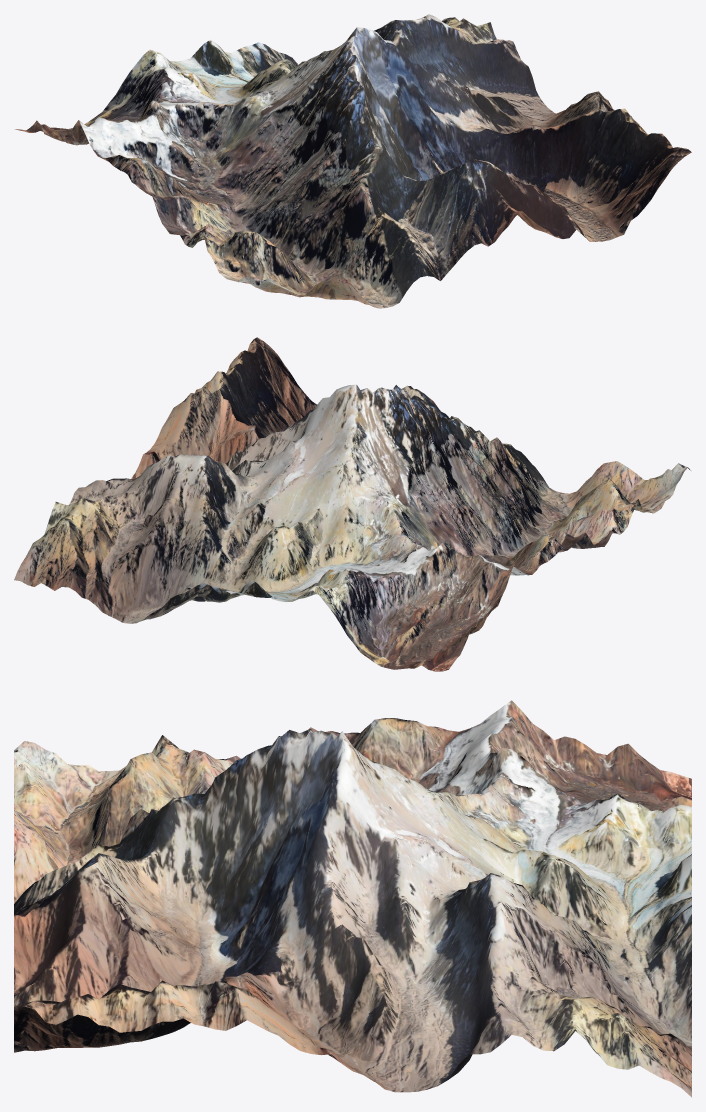
Rendered from aconcagua.glb.
3 views of the same model, one above another, from view 1: azimuth 30°, elevation 25°; view 2: azimuth 150°, elevation 25°; view 3: azimuth 270°, elevation 25° (orthographic). The views are drawn at different scales.
Visible parts, largest first — view 1: EXPORT_GOOGLE_SAT_WM; view 2: EXPORT_GOOGLE_SAT_WM; view 3: EXPORT_GOOGLE_SAT_WM.
Boxes of the visible parts, x1,y1,x2,y2 form: EXPORT_GOOGLE_SAT_WM: (15,14,691,308); EXPORT_GOOGLE_SAT_WM: (14,337,690,671); EXPORT_GOOGLE_SAT_WM: (14,700,691,1097).
Size of the model in its own units: 14314 by 5444 by 13862.
1 material, 1 textured.
